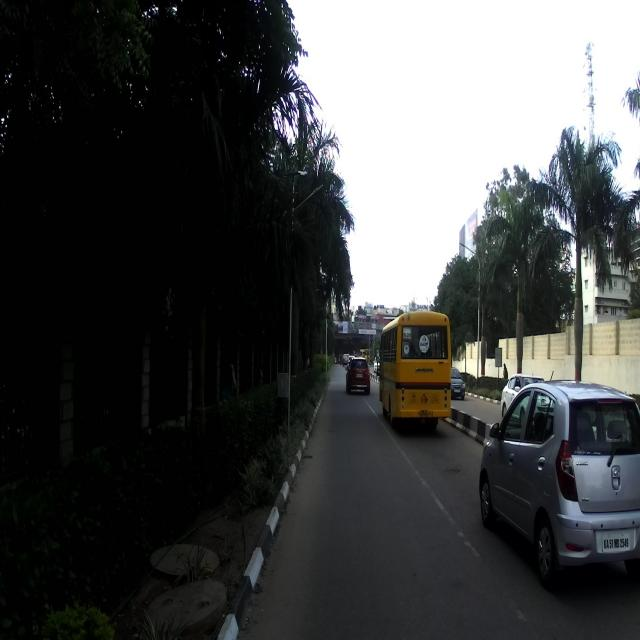Car_Hyundai: (479, 369, 639, 593)
bus: (376, 310, 451, 436)
